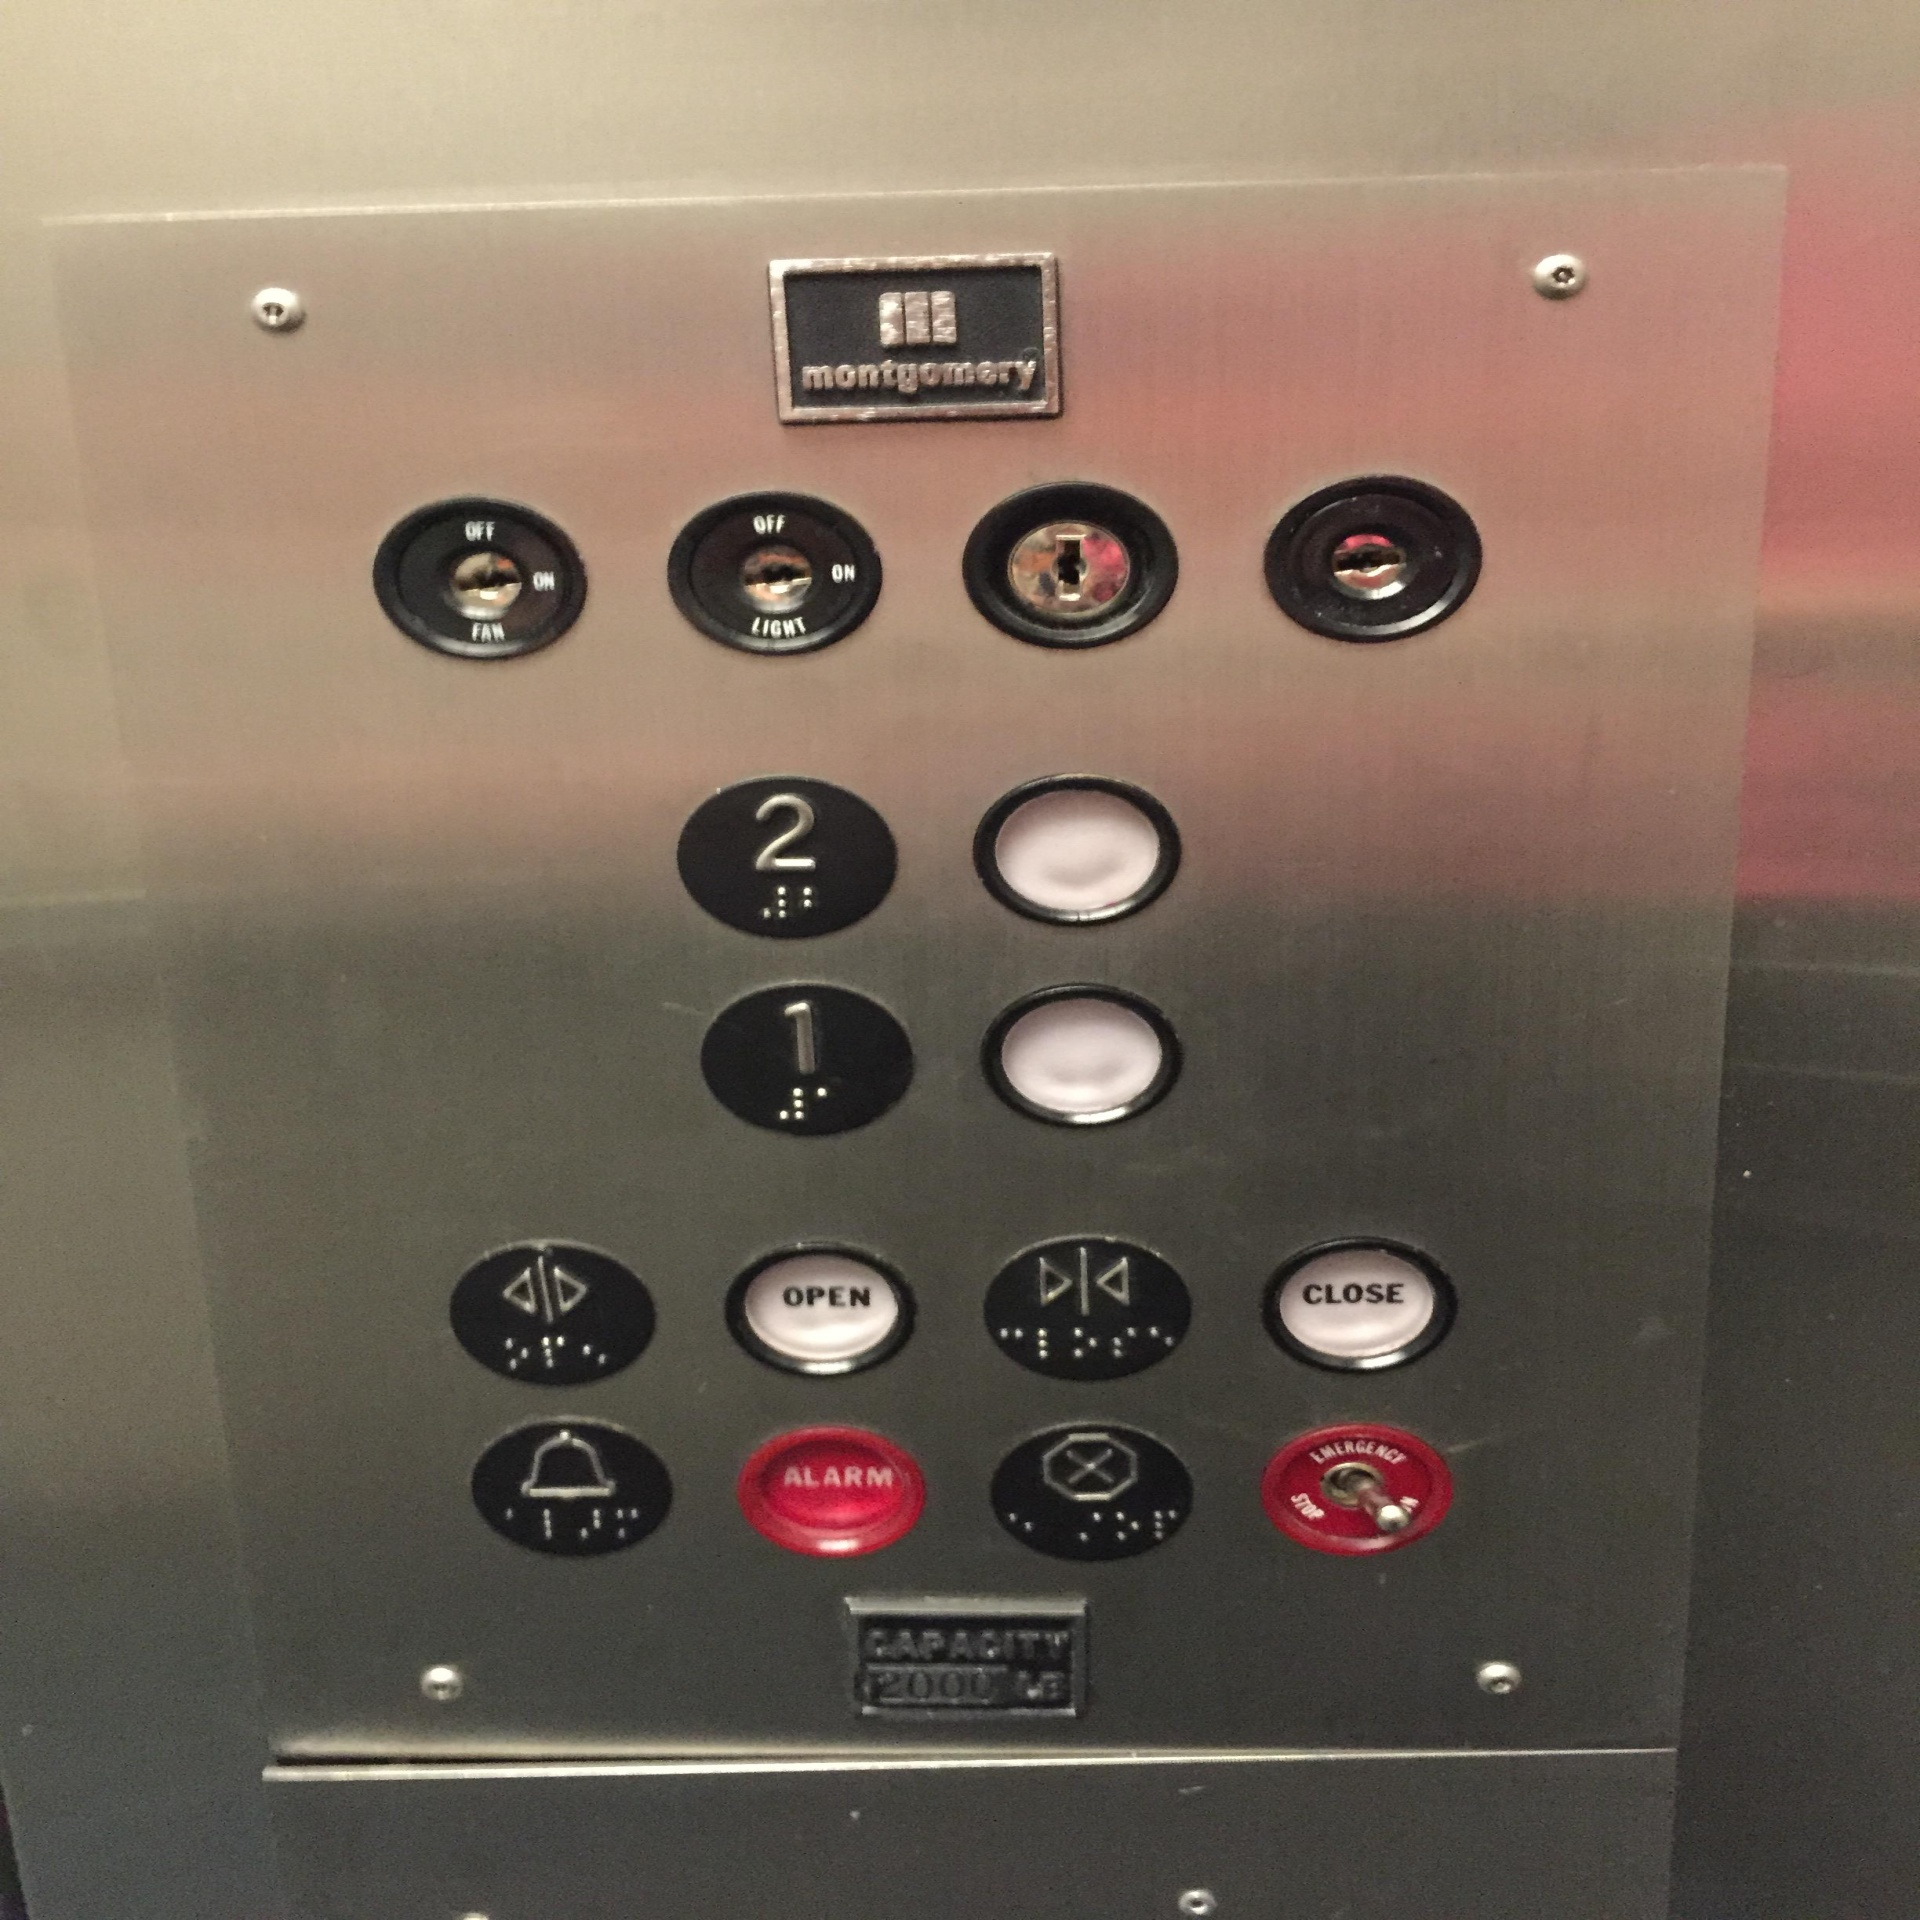1: (700, 978, 918, 1139)
2: (673, 775, 898, 939)
alarm: (468, 1414, 675, 1560)
bt_switch: (1257, 1419, 1454, 1553)
close: (983, 1234, 1194, 1380)
empty: (971, 772, 1182, 927), (983, 983, 1183, 1125)
keyhole: (1264, 469, 1484, 645), (373, 494, 594, 665), (962, 482, 1180, 649), (666, 491, 884, 656)
open: (447, 1240, 659, 1387)
stop: (988, 1421, 1194, 1560)
text_alarm: (740, 1417, 925, 1560)
text_close: (1262, 1238, 1459, 1384)
text_open: (721, 1241, 918, 1378)
